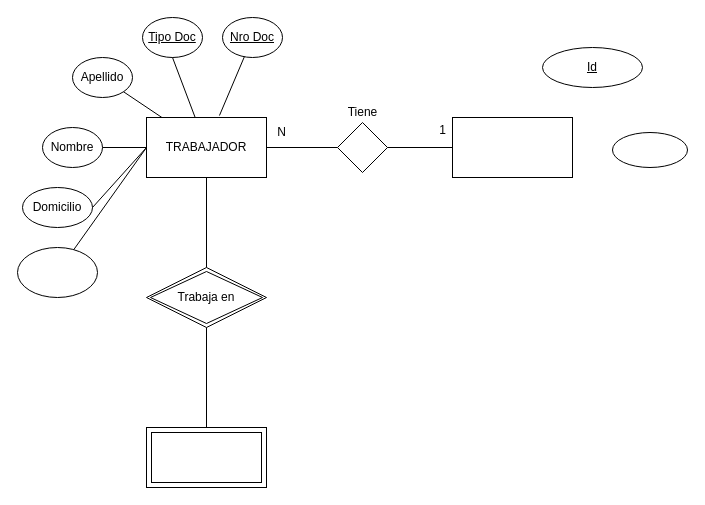
Some shapes in this 705 by 505 pixel diagram are drawn without their labels. The shapes that lost their labels are listed below. From the top down, each one's centre as x and y in pixels, then its label:
At [512,147]: "ART".
At [650,150]: "Descripcion".
At [57,272]: "Fecha_ingreso".
At [206,457]: "EMPRESA".
